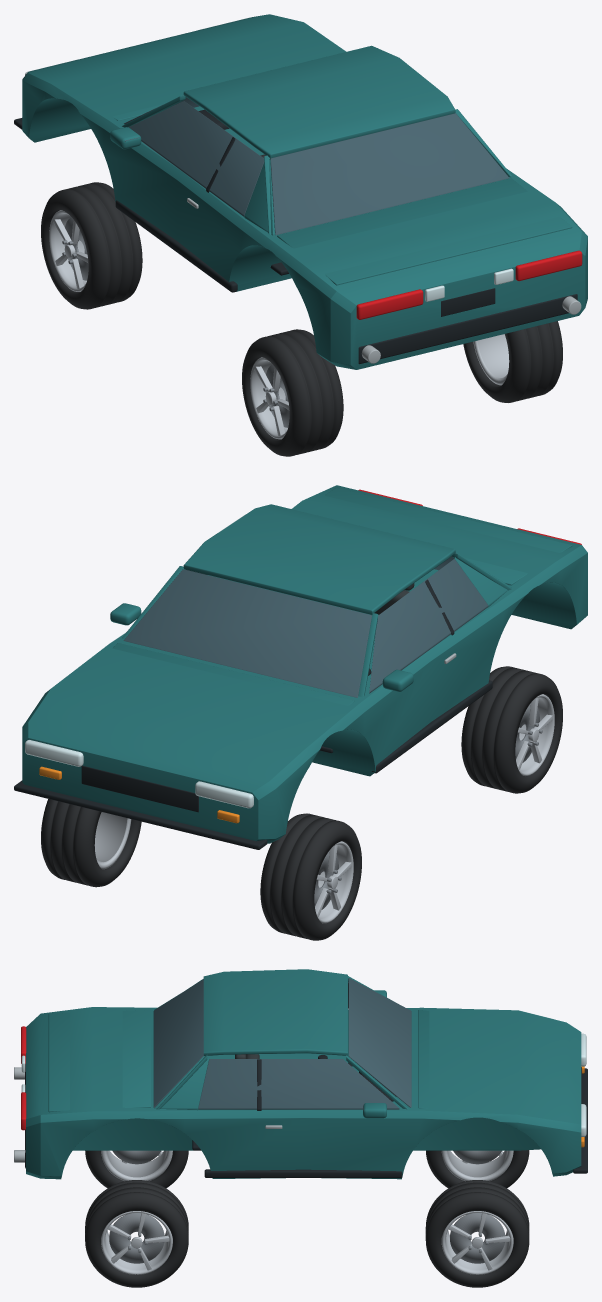
File: Cedar_Coupe_Prototype.fbx
3 renders of one model, top to bottom at view 1: azimuth 30°, elevation 25°; view 2: azimuth 150°, elevation 25°; view 3: azimuth 270°, elevation 25°, orthographic. The views are drawn at different scales.
Visible parts, largest first — view 1: BodyShell, RoofPanel, RearGlass, Wheel_RL_Tire, Wheel_FL_Tire, TrunkPanel, SideGlass_L, Wheel_RR_Tire, RearValance, Wheel_RL_Rim, Wheel_FL_Rim, Wheel_RR_Rim (+5 smaller); view 2: BodyShell, Windshield, RoofPanel, Wheel_FL_Tire, Wheel_RL_Tire, SideGlass_L, Wheel_FR_Tire, TrunkPanel, FrontSplitter, FrontGrille, Wheel_FL_Rim, Wheel_RL_Rim (+7 smaller); view 3: BodyShell, RoofPanel, SideGlass_R, Windshield, Wheel_FR_Tire, Wheel_RR_Tire, TrunkPanel, RearGlass, Wheel_FR_Rim, Wheel_RR_Rim, Wheel_RR_BrakeDisc, Wheel_FR_BrakeDisc (+10 smaller).
Boxes of the visible parts, <box> form: BodyShell: <box>22,14,587,369</box>; RoofPanel: <box>183,45,455,158</box>; RearGlass: <box>270,113,509,235</box>; Wheel_RL_Tire: <box>242,329,343,456</box>; Wheel_FL_Tire: <box>41,182,142,309</box>; TrunkPanel: <box>277,178,572,285</box>; SideGlass_L: <box>129,101,264,216</box>; Wheel_RR_Tire: <box>463,321,562,402</box>; RearValance: <box>358,294,577,364</box>; Wheel_RL_Rim: <box>250,357,289,439</box>; Wheel_FL_Rim: <box>49,210,88,291</box>; Wheel_RR_Rim: <box>473,334,509,385</box>; BodyShell: <box>22,485,587,843</box>; Windshield: <box>123,569,371,697</box>; RoofPanel: <box>183,504,455,614</box>; Wheel_FL_Tire: <box>260,813,361,940</box>; Wheel_RL_Tire: <box>461,666,562,793</box>; SideGlass_L: <box>369,559,488,693</box>; Wheel_FR_Tire: <box>41,799,141,887</box>; TrunkPanel: <box>325,487,572,585</box>; FrontSplitter: <box>14,780,267,849</box>; FrontGrille: <box>81,765,198,812</box>; Wheel_FL_Rim: <box>315,841,353,923</box>; Wheel_RL_Rim: <box>516,694,554,775</box>; BodyShell: <box>26,1007,581,1179</box>; RoofPanel: <box>203,969,347,1055</box>; SideGlass_R: <box>198,1059,399,1109</box>; Windshield: <box>348,978,411,1107</box>; Wheel_FR_Tire: <box>425,1180,529,1287</box>; Wheel_RR_Tire: <box>85,1180,188,1287</box>; TrunkPanel: <box>48,1010,150,1112</box>; RearGlass: <box>153,979,203,1107</box>; Wheel_FR_Rim: <box>441,1211,513,1274</box>; Wheel_RR_Rim: <box>101,1211,172,1274</box>; Wheel_RR_BrakeDisc: <box>109,1213,164,1263</box>; Wheel_FR_BrakeDisc: <box>450,1213,505,1263</box>.
Bounding box in the file's own units: 7.72 × 6.74 × 15.5.
